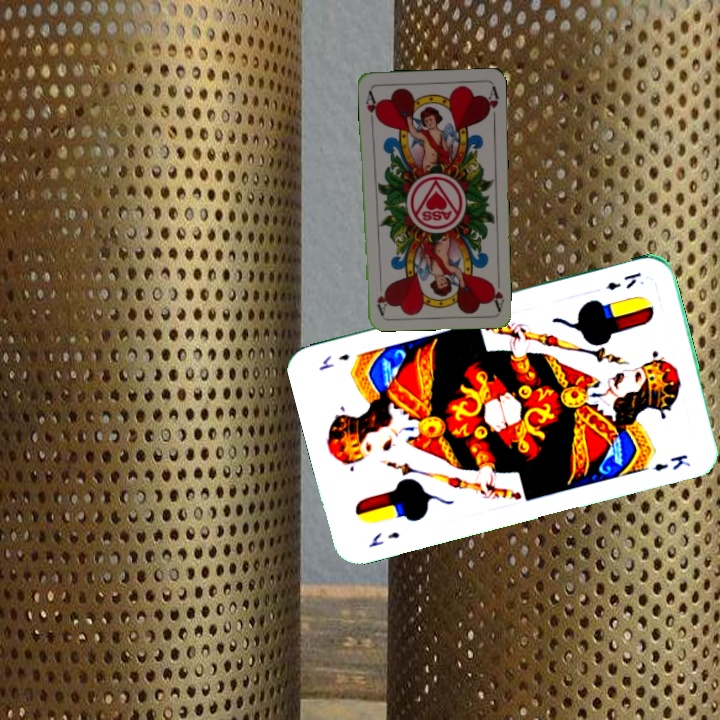EK: (601, 268, 643, 293), (364, 528, 402, 550)
HA: (487, 271, 507, 312), (362, 87, 381, 127)
